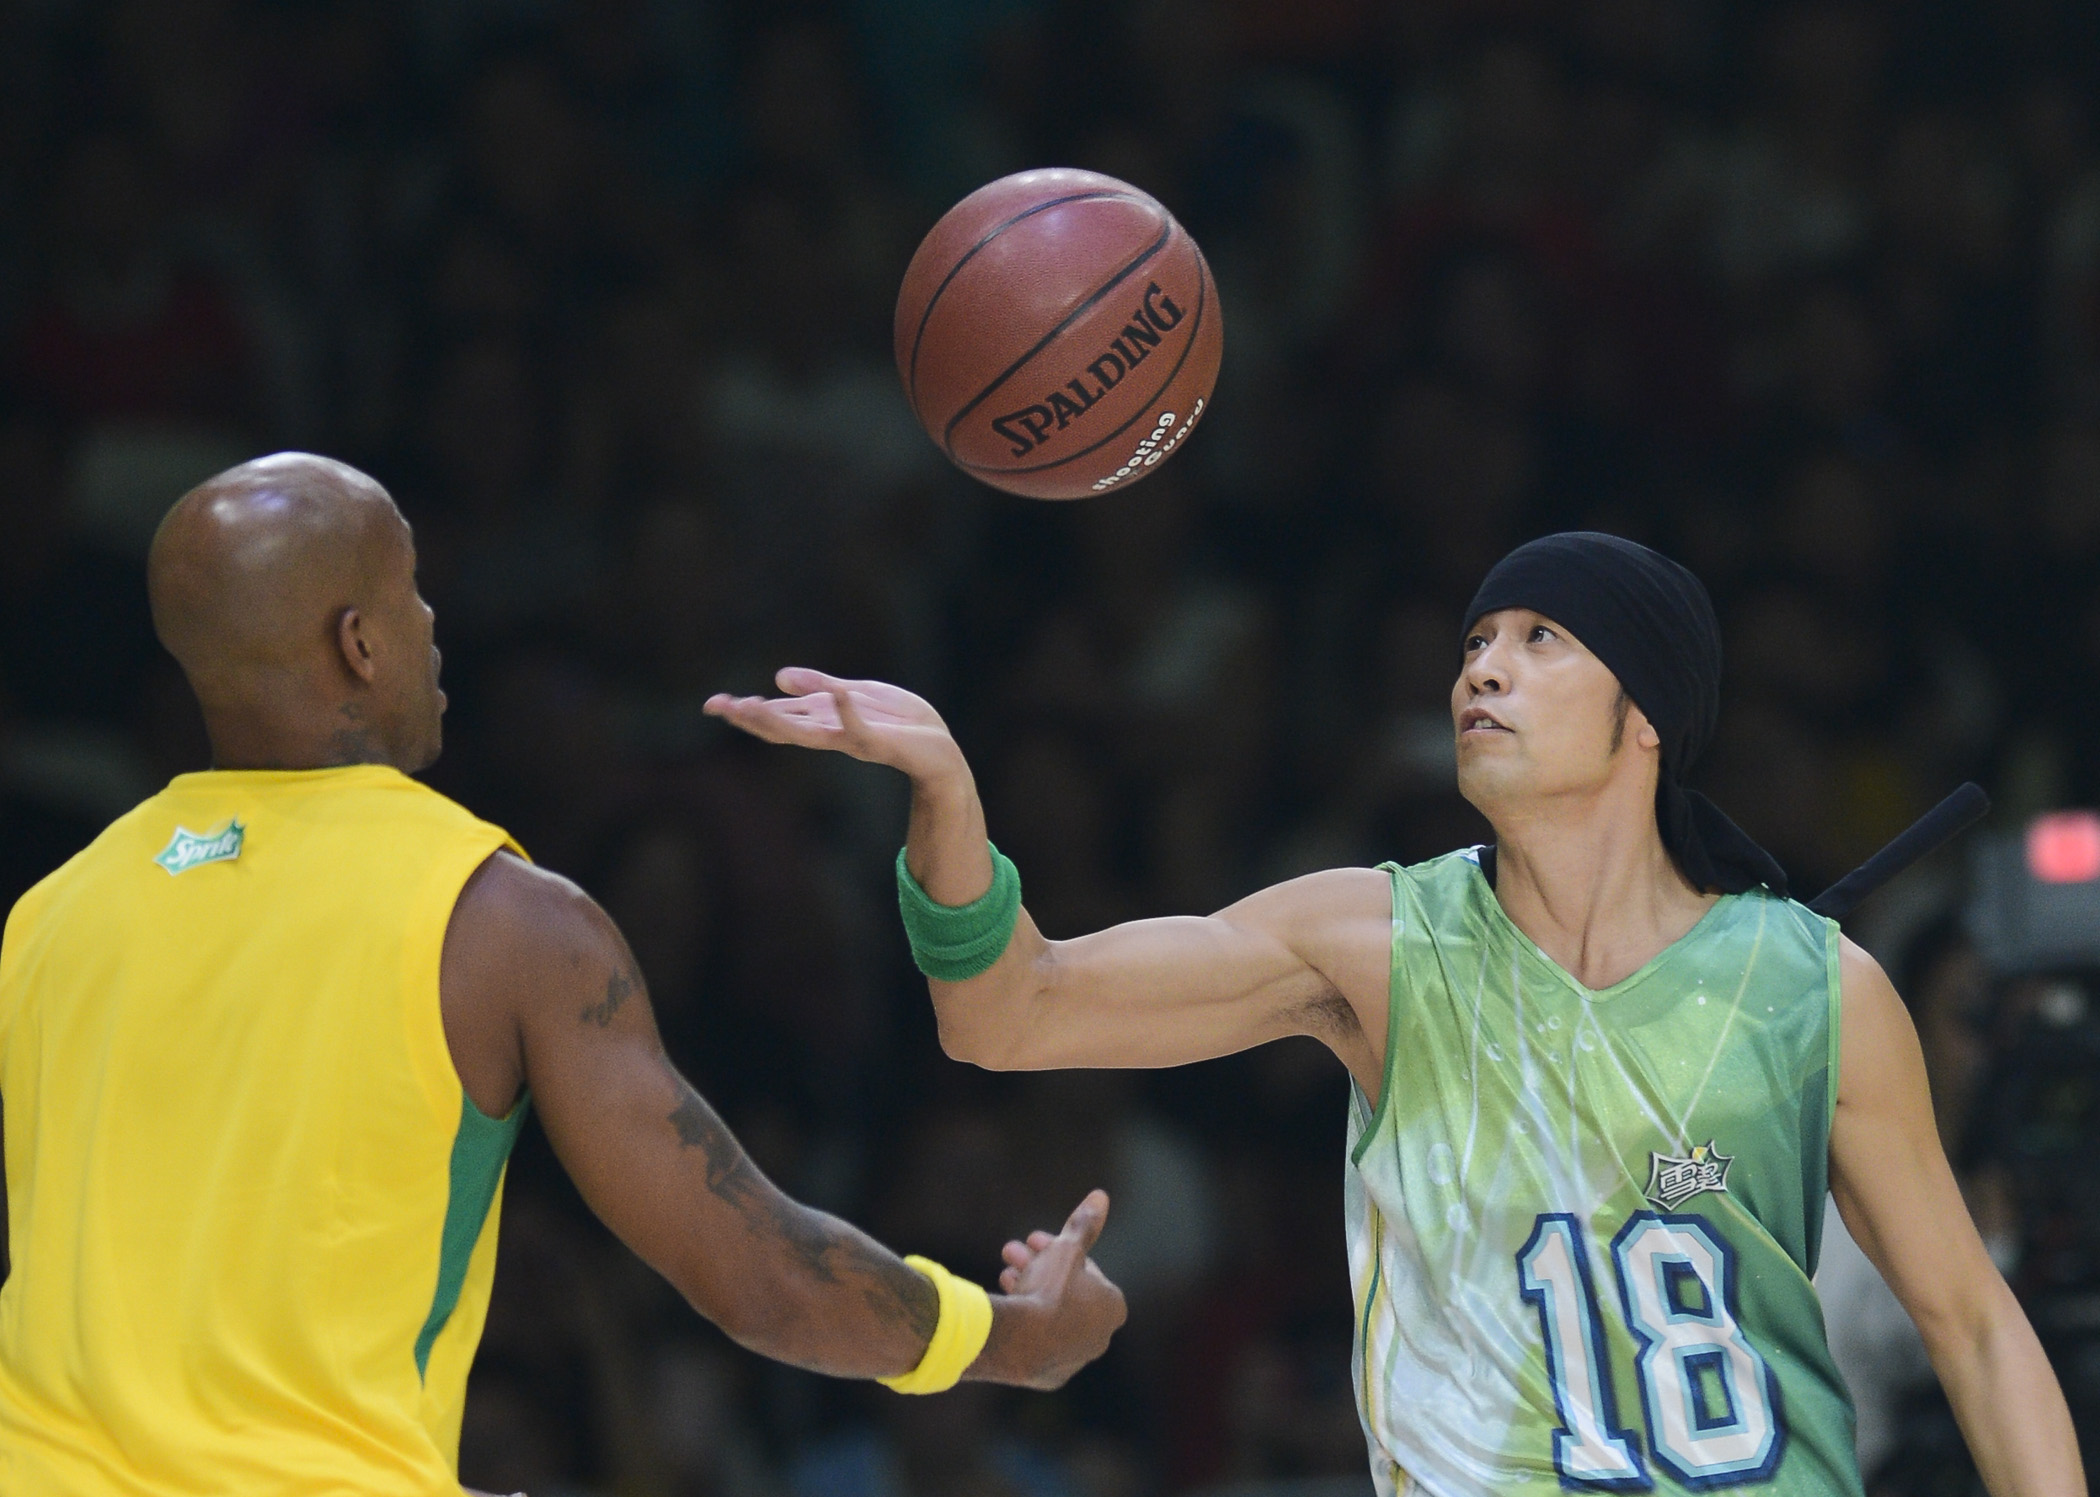ball: (890, 165, 1223, 502)
